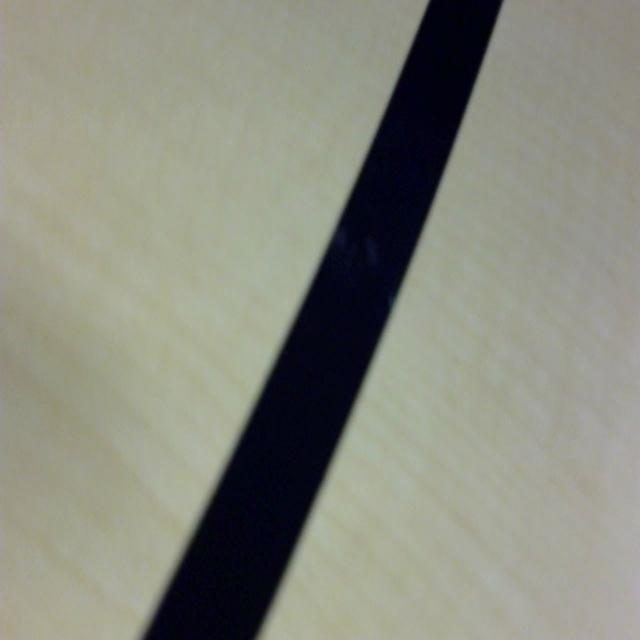tape: (134, 0, 507, 640)
